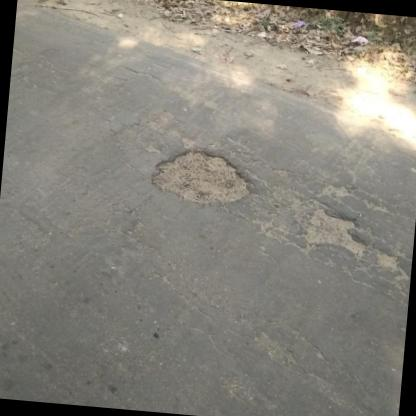pothole: (146, 143, 254, 210), (298, 204, 368, 262)
